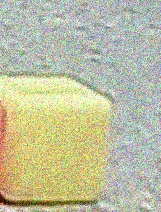yellow_cube: (0, 72, 120, 209)
